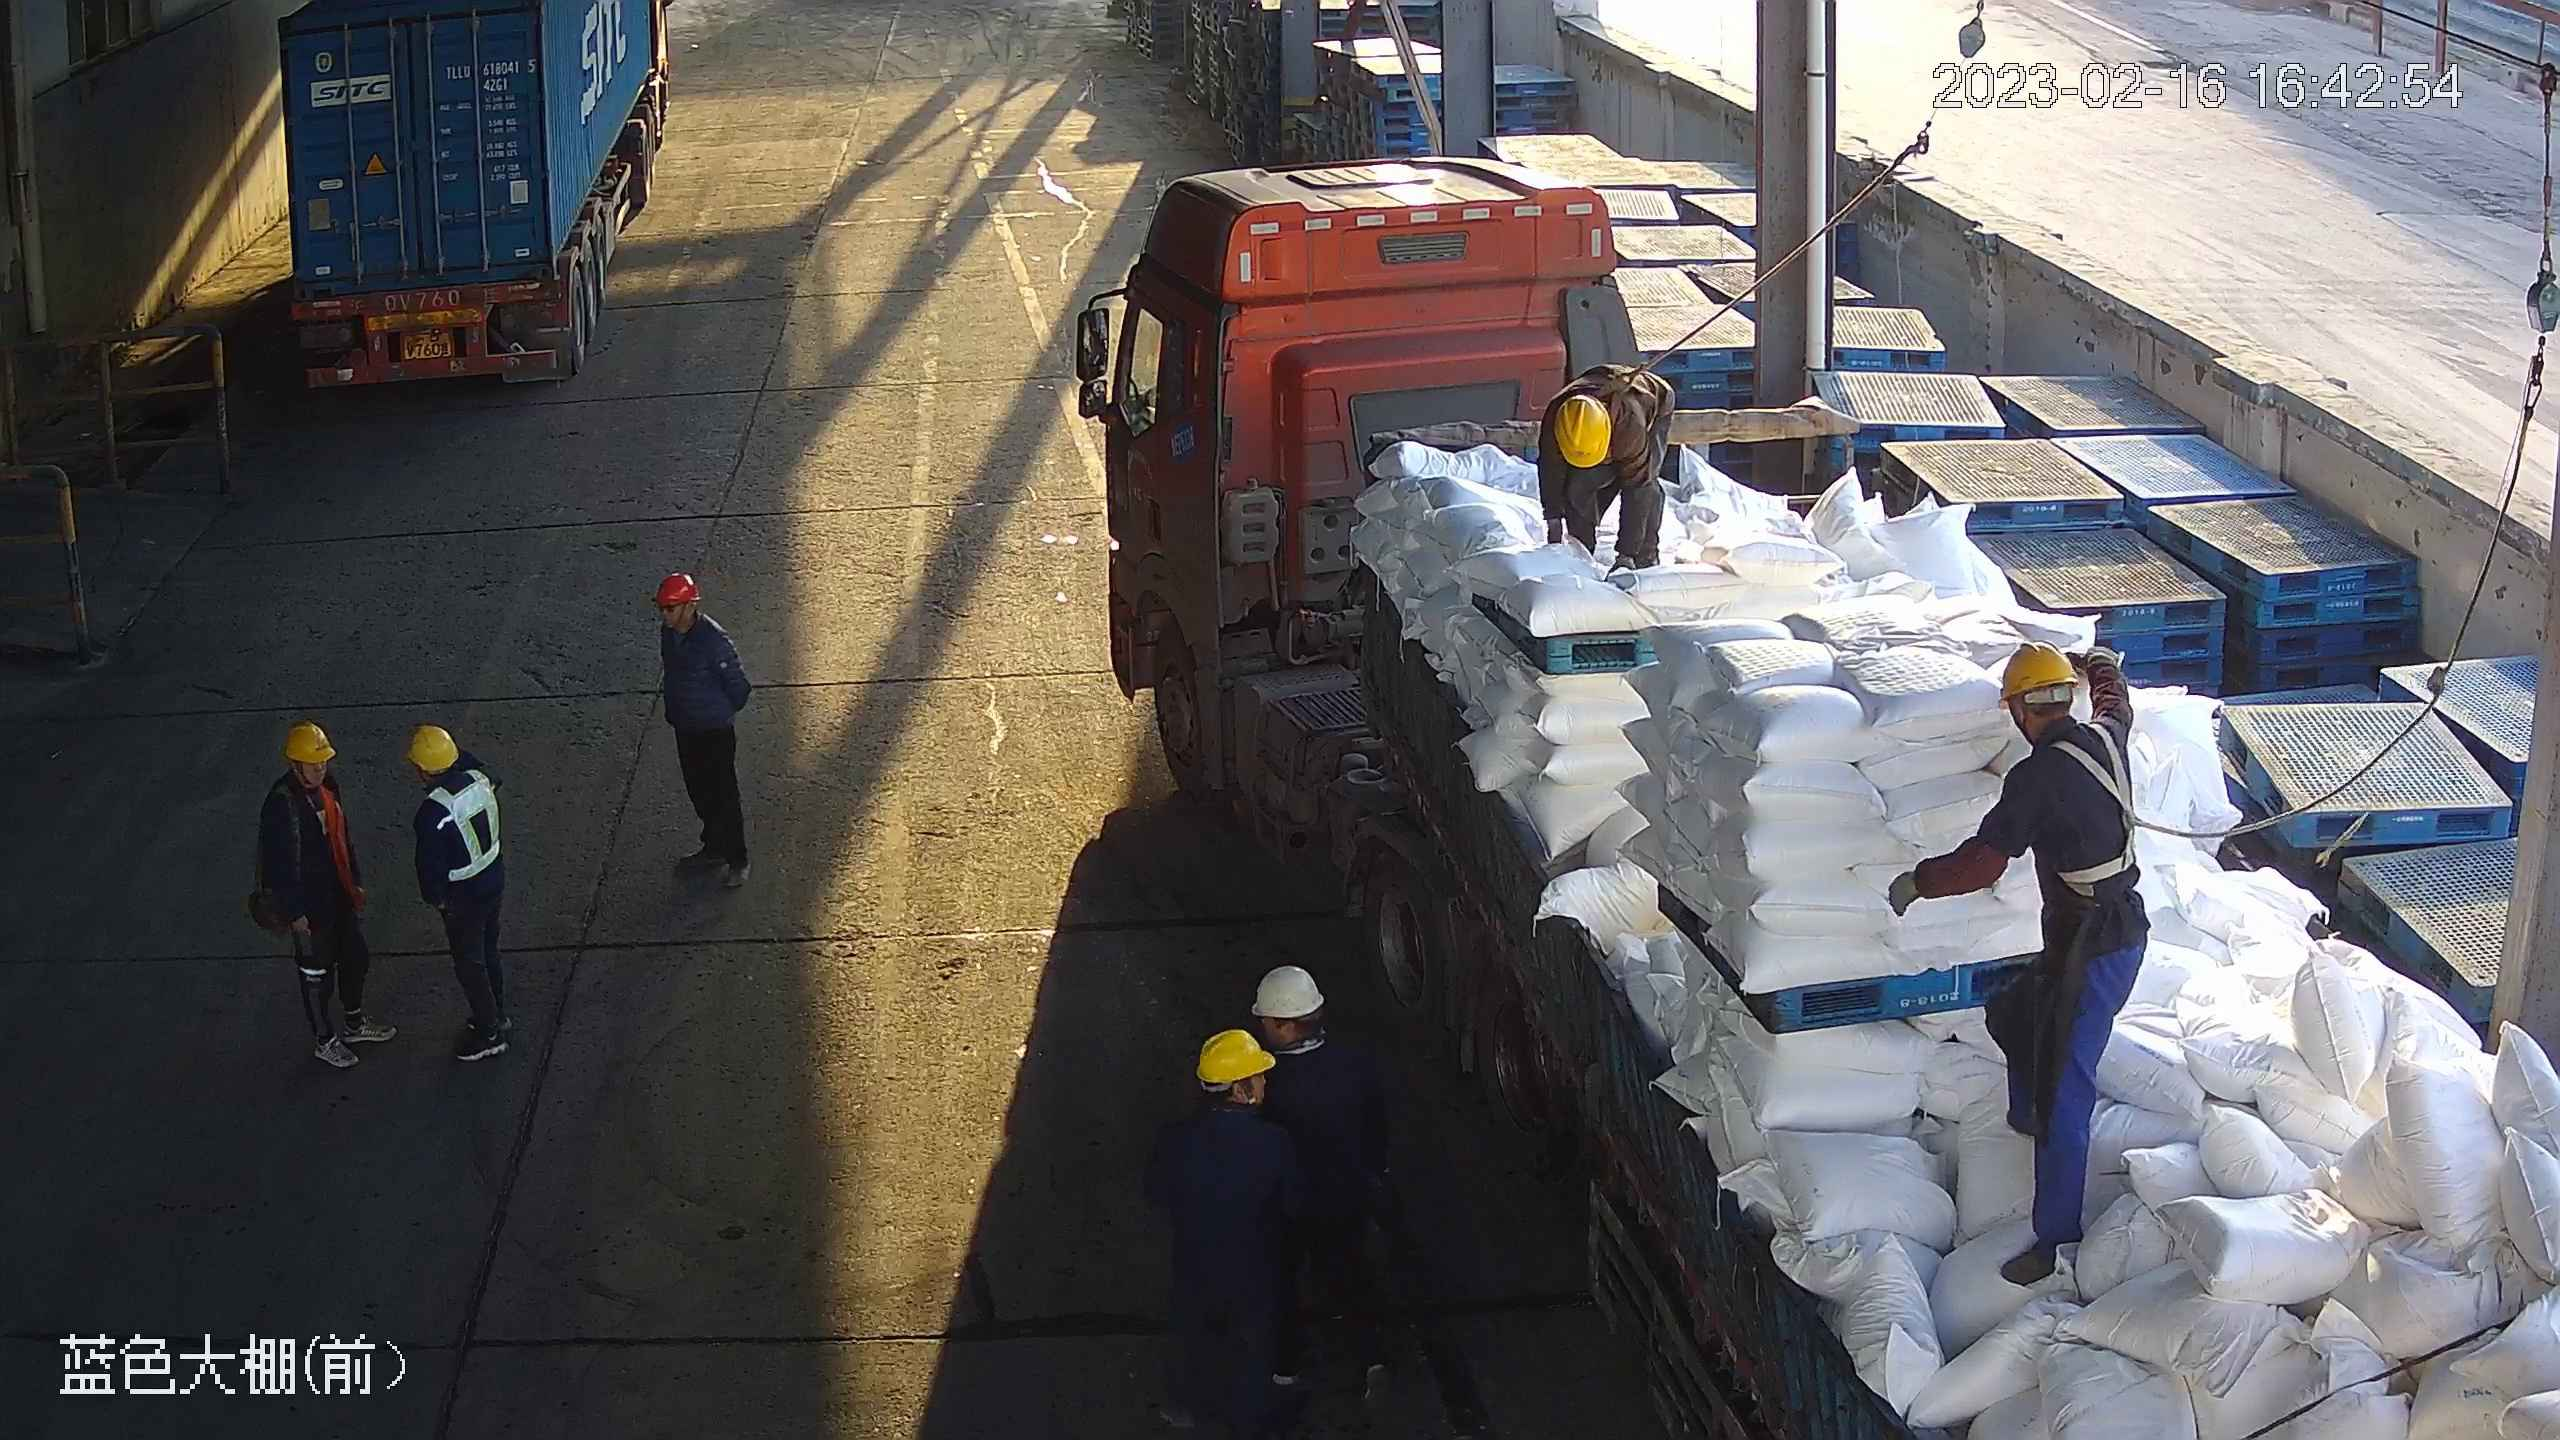head: (1976, 642, 2139, 845), (1142, 1027, 1298, 1178), (1254, 969, 1374, 1127), (247, 720, 359, 839), (1545, 362, 1652, 476), (644, 569, 742, 672), (406, 720, 498, 822)
helmet: (1993, 642, 2086, 705), (1198, 1027, 1273, 1086), (1247, 964, 1322, 1022), (1554, 393, 1613, 467), (405, 727, 462, 772), (284, 720, 337, 762), (651, 574, 700, 610)
people: (1883, 640, 2145, 1276), (1252, 964, 1403, 1408), (1142, 1027, 1295, 1440), (249, 727, 401, 1079), (401, 722, 517, 1064), (647, 564, 757, 894), (1540, 357, 1681, 574)
truck: (1066, 157, 2560, 1440), (266, 1, 686, 386)
